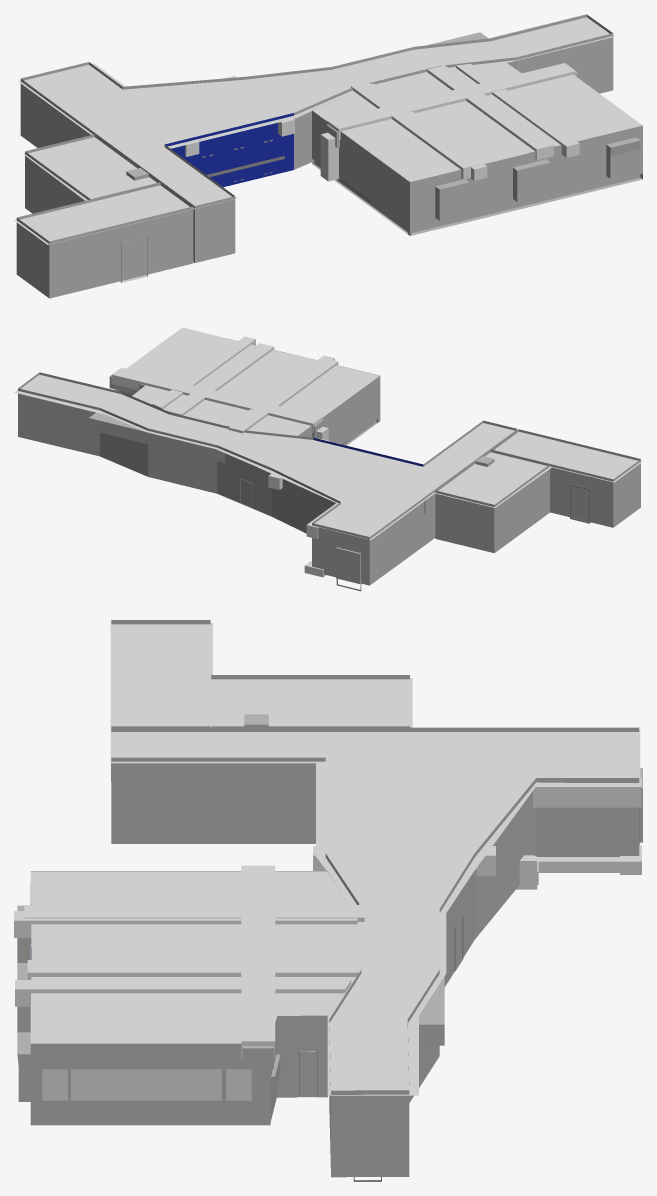
The model's file is Scena.fbx.
3 views of the same model, one above another, from view 1: azimuth 30°, elevation 25°; view 2: azimuth 150°, elevation 25°; view 3: azimuth 270°, elevation 25° (orthographic). The views are drawn at different scales.
Parts seen in each view (by area): view 1: Plane.001, Hallway, Plane, WC, RoomSTUB, HallwaySTUP.001, HallwaySTUP; view 2: Plane.001, Hallway, WC, RoomSTUB, Plane, HallwaySTUP, HallwaySTUP.001; view 3: Plane.001, Hallway, Plane, RoomSTUB, HallwaySTUP.001, WhiteBoard2, HallwaySTUP, WC, SeatingArea, WhiteBoard1, WhiteBoard3.
Boxes of the visible parts, x1,y1,x2,y2 form: Plane.001: [14, 14, 642, 244]; Hallway: [20, 14, 613, 262]; Plane: [312, 100, 642, 235]; WC: [16, 134, 193, 298]; RoomSTUB: [320, 63, 576, 181]; HallwaySTUP.001: [326, 64, 579, 180]; HallwaySTUP: [83, 32, 487, 156]; Plane.001: [14, 327, 642, 539]; Hallway: [18, 372, 517, 591]; WC: [435, 429, 640, 553]; RoomSTUB: [111, 343, 338, 440]; Plane: [115, 345, 380, 445]; HallwaySTUP: [88, 412, 434, 539]; HallwaySTUP.001: [109, 336, 334, 437]; Plane.001: [30, 623, 640, 1095]; Hallway: [111, 727, 642, 1181]; Plane: [17, 871, 337, 1125]; RoomSTUB: [24, 865, 364, 1057]; HallwaySTUP.001: [14, 911, 357, 1069]; WhiteBoard2: [71, 1069, 221, 1100]; HallwaySTUP: [313, 777, 641, 1045]; WC: [111, 620, 409, 781]; SeatingArea: [537, 845, 641, 874]; WhiteBoard1: [226, 1069, 251, 1100]; WhiteBoard3: [42, 1069, 67, 1100].
Bounding box in the file's own units: 147 × 14.74 × 82.62.
